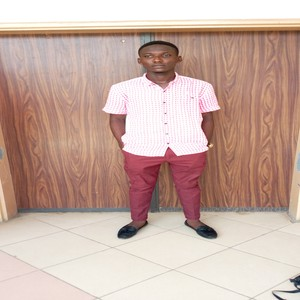Fulokoja_male_student: (108, 41, 213, 241)
